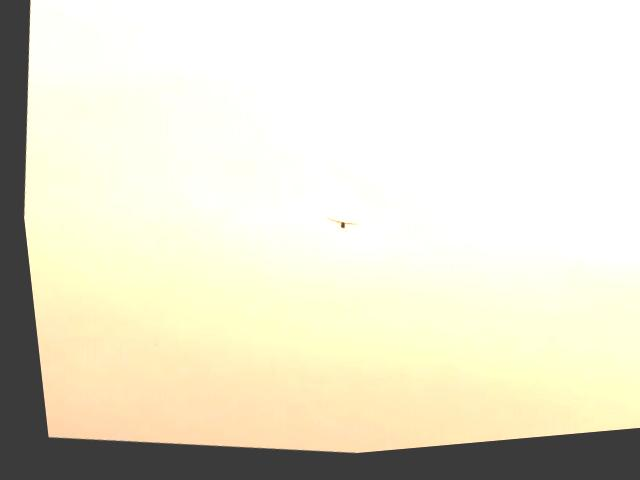plane: (317, 218, 357, 240)
